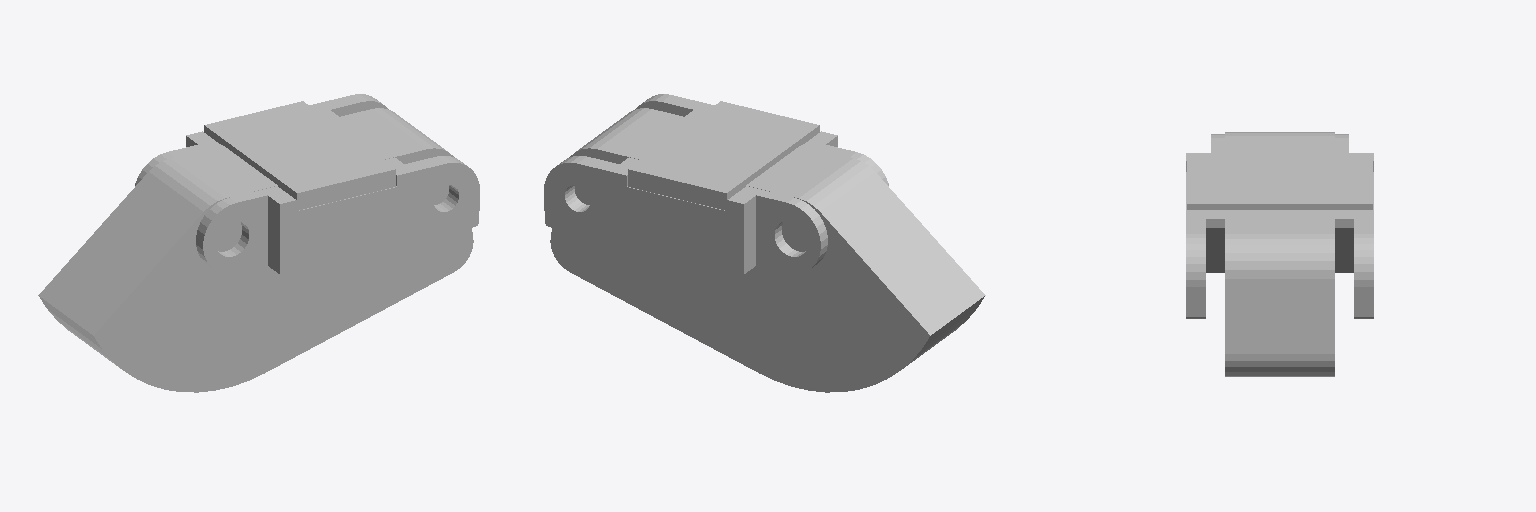
File: link_2_vis.obj
3 renders of one model, left to right at view 1: azimuth 30°, elevation 25°; view 2: azimuth 150°, elevation 25°; view 3: azimuth 270°, elevation 25°, orthographic.
Visible parts, largest first — view 1: link_2_vis; view 2: link_2_vis; view 3: link_2_vis.
Boxes of the visible parts, <box> form: link_2_vis: <box>38,94,479,392</box>; link_2_vis: <box>544,94,985,392</box>; link_2_vis: <box>1186,132,1373,376</box>.
Bounding box in the file's own units: 0.0718 × 0.0354 × 0.0307.